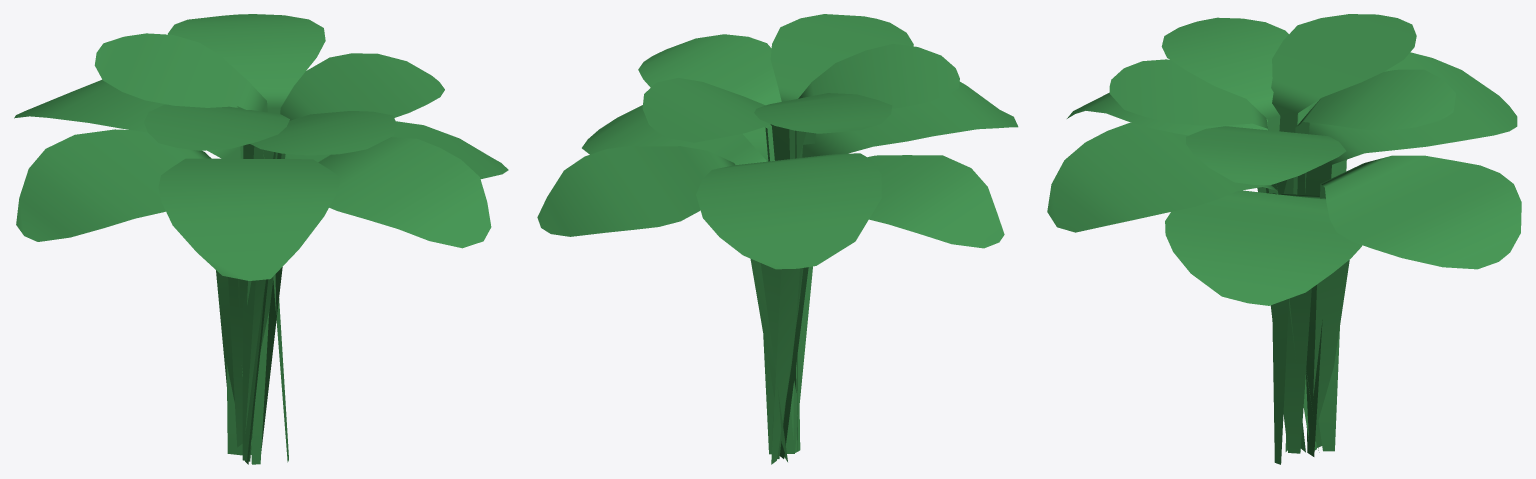
The model's file is plant_pilea_small_B.fbx.
3 views of the same model, side by side, from view 1: azimuth 30°, elevation 25°; view 2: azimuth 150°, elevation 25°; view 3: azimuth 270°, elevation 25° (orthographic). The views are drawn at different scales.
Visible parts, largest first — view 1: plant_pilea_small_B_leaf_I, plant_pilea_small_B_leaf_J1, plant_pilea_small_B_leaf_H, plant_pilea_small_B_leaf_B, plant_pilea_small_B_leaf_D, plant_pilea_small_B_leaf_E, plant_pilea_small_B_leaf_A, plant_pilea_small_B_leaf_C, plant_pilea_small_B_leaf_J, plant_pilea_small_B_leaf_F, plant_pilea_small_B_leaf_G; view 2: plant_pilea_small_B_leaf_J, plant_pilea_small_B_leaf_G, plant_pilea_small_B_leaf_J1, plant_pilea_small_B_leaf_I, plant_pilea_small_B_leaf_C, plant_pilea_small_B_leaf_E, plant_pilea_small_B_leaf_A, plant_pilea_small_B_leaf_D, plant_pilea_small_B_leaf_B, plant_pilea_small_B_leaf_F, plant_pilea_small_B_leaf_H; view 3: plant_pilea_small_B_leaf_G, plant_pilea_small_B_leaf_F, plant_pilea_small_B_leaf_H, plant_pilea_small_B_leaf_B, plant_pilea_small_B_leaf_J, plant_pilea_small_B_leaf_A, plant_pilea_small_B_leaf_D, plant_pilea_small_B_leaf_E, plant_pilea_small_B_leaf_C, plant_pilea_small_B_leaf_I, plant_pilea_small_B_leaf_J1.
Boxes of the visible parts, <box> form: plant_pilea_small_B_leaf_I: <box>158,158,339,447</box>; plant_pilea_small_B_leaf_J1: <box>16,129,239,401</box>; plant_pilea_small_B_leaf_H: <box>243,137,491,460</box>; plant_pilea_small_B_leaf_B: <box>94,33,288,462</box>; plant_pilea_small_B_leaf_D: <box>168,14,325,464</box>; plant_pilea_small_B_leaf_E: <box>245,53,444,464</box>; plant_pilea_small_B_leaf_A: <box>144,104,289,461</box>; plant_pilea_small_B_leaf_C: <box>247,111,397,304</box>; plant_pilea_small_B_leaf_J: <box>14,79,251,454</box>; plant_pilea_small_B_leaf_F: <box>261,121,508,450</box>; plant_pilea_small_B_leaf_G: <box>226,106,242,455</box>; plant_pilea_small_B_leaf_J: <box>696,153,881,454</box>; plant_pilea_small_B_leaf_G: <box>537,146,787,461</box>; plant_pilea_small_B_leaf_J1: <box>771,155,1004,464</box>; plant_pilea_small_B_leaf_I: <box>780,81,1018,458</box>; plant_pilea_small_B_leaf_C: <box>770,14,913,458</box>; plant_pilea_small_B_leaf_E: <box>638,34,800,452</box>; plant_pilea_small_B_leaf_A: <box>795,44,959,450</box>; plant_pilea_small_B_leaf_D: <box>642,78,796,392</box>; plant_pilea_small_B_leaf_B: <box>754,93,892,158</box>; plant_pilea_small_B_leaf_F: <box>582,105,766,164</box>; plant_pilea_small_B_leaf_H: <box>743,127,812,453</box>; plant_pilea_small_B_leaf_G: <box>1313,155,1521,447</box>; plant_pilea_small_B_leaf_F: <box>1165,190,1362,453</box>; plant_pilea_small_B_leaf_H: <box>1047,122,1305,452</box>; plant_pilea_small_B_leaf_B: <box>1271,14,1416,464</box>; plant_pilea_small_B_leaf_J: <box>1305,52,1517,456</box>; plant_pilea_small_B_leaf_A: <box>1161,17,1298,131</box>; plant_pilea_small_B_leaf_D: <box>1285,69,1455,451</box>; plant_pilea_small_B_leaf_E: <box>1186,126,1346,194</box>; plant_pilea_small_B_leaf_C: <box>1109,59,1319,452</box>; plant_pilea_small_B_leaf_I: <box>1067,92,1316,450</box>; plant_pilea_small_B_leaf_J1: <box>1298,105,1346,451</box>.
Size of the model in its own units: 38.13 by 32.2 by 36.02.
